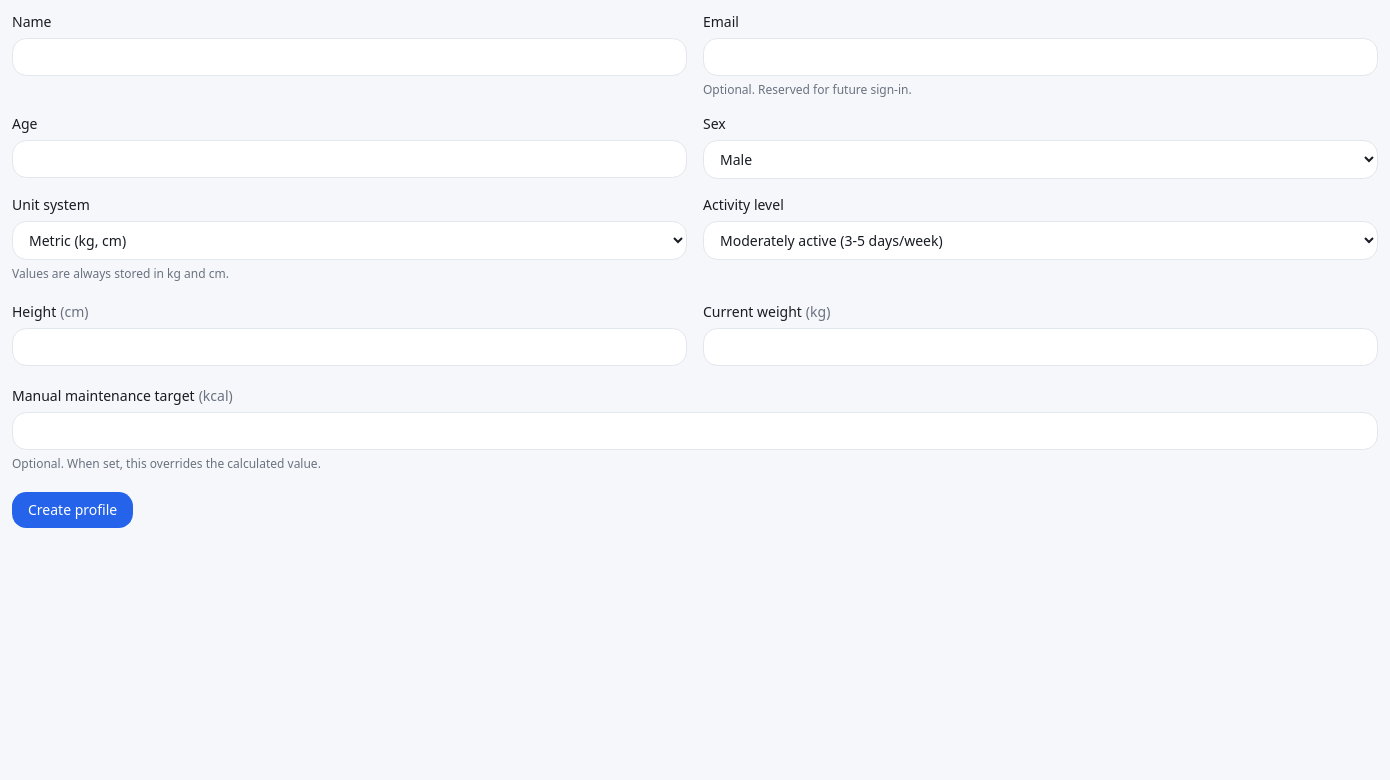
Test: profile form validation › requires a name, age, height and weight
Click the button "Create profile". click: (73, 510)
box: [12,492,133,528]
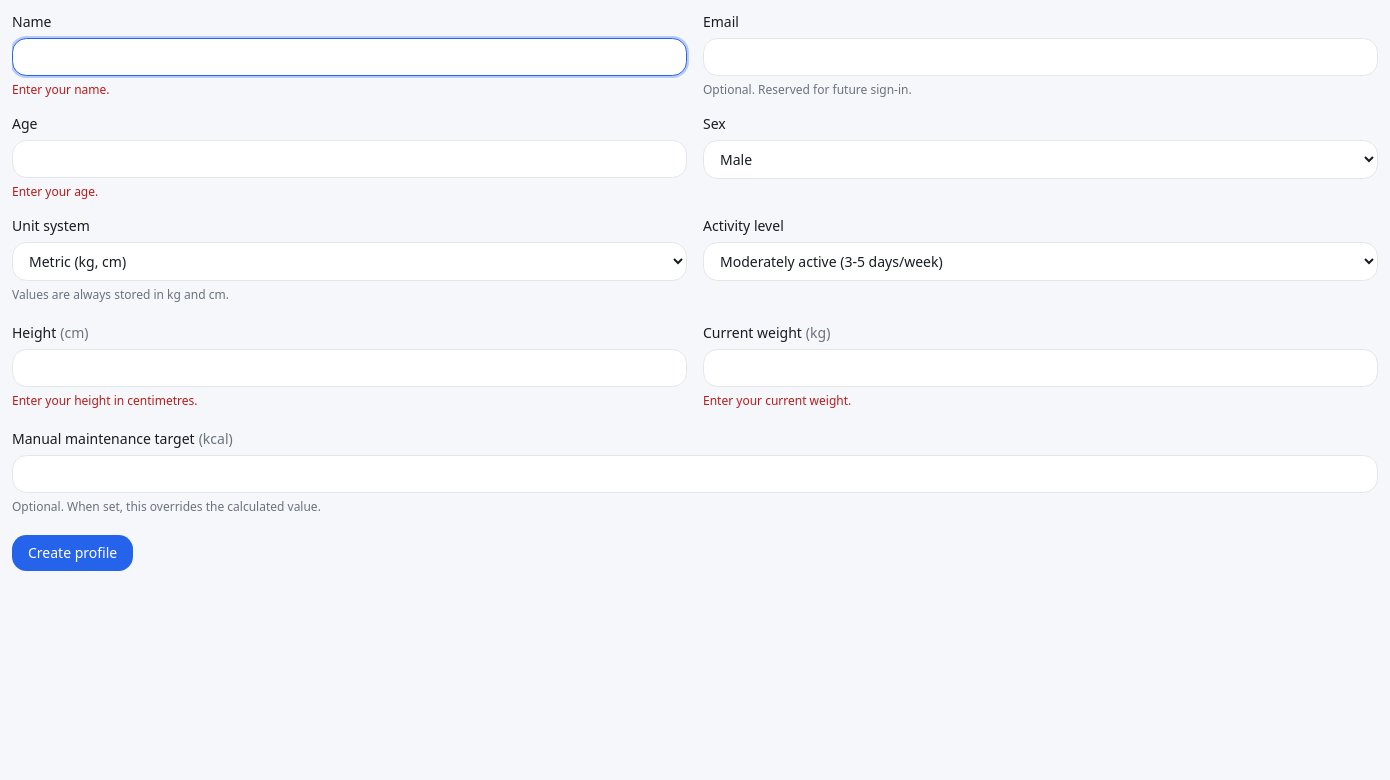
Check: the text "Enter your name." is shown, box [12,81,110,98]
Check: the text "Enter your age." is shown, box [12,183,98,200]
Check: the text "Enter your current weight." is shown, box [703,392,851,409]
